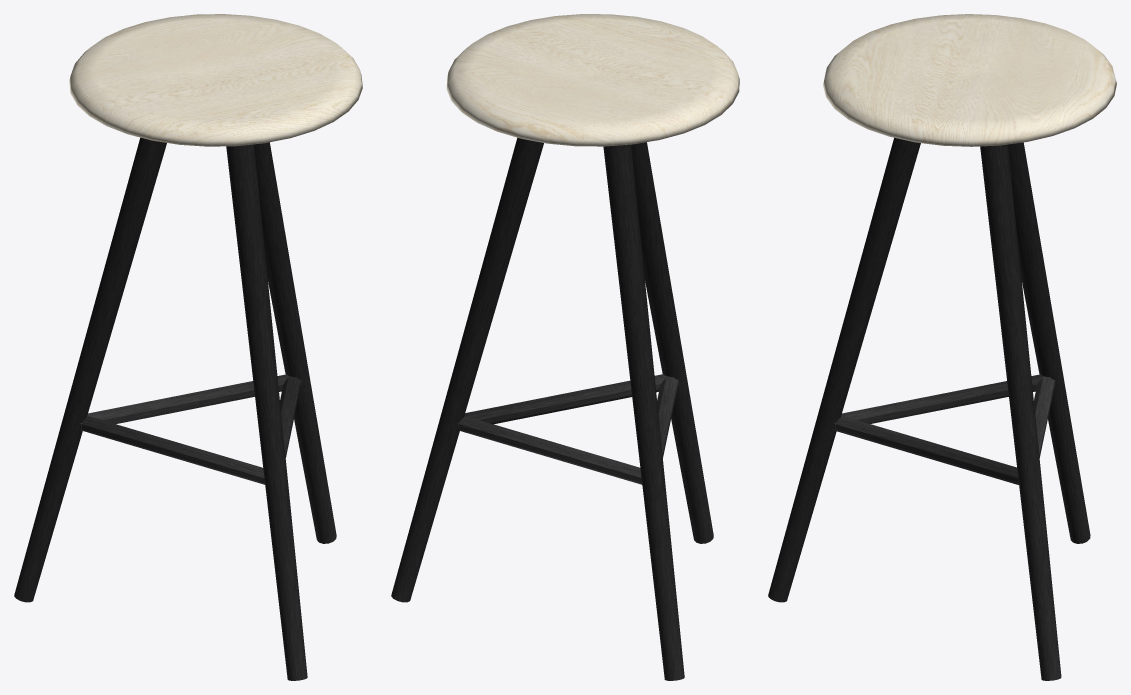
File: aws_ChairB_01_visual.DAE
3 views of the same model, side by side, from view 1: azimuth 30°, elevation 25°; view 2: azimuth 150°, elevation 25°; view 3: azimuth 270°, elevation 25° (orthographic).
Visible parts, largest first — view 1: aws_ChairB_01_visual; view 2: aws_ChairB_01_visual; view 3: aws_ChairB_01_visual.
Part boxes in pixels (x1,y1,x2,y2): aws_ChairB_01_visual: (14, 14, 362, 680); aws_ChairB_01_visual: (391, 14, 739, 680); aws_ChairB_01_visual: (768, 14, 1116, 680).
Bounding box in the file's own units: 44.41 × 43.96 × 74.58.
Materials: 1 (1 with a texture image).
